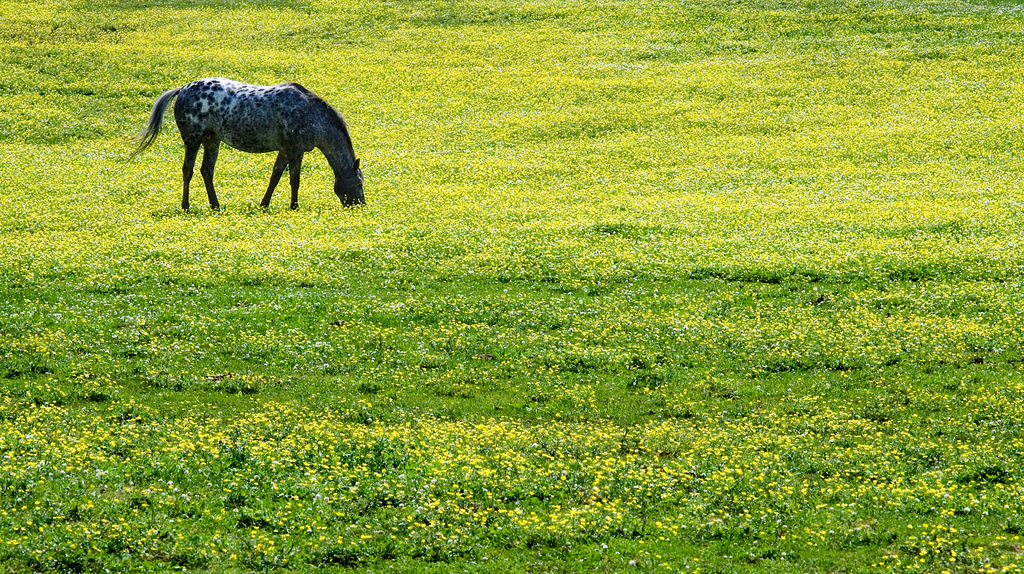horse: (127, 75, 369, 212)
